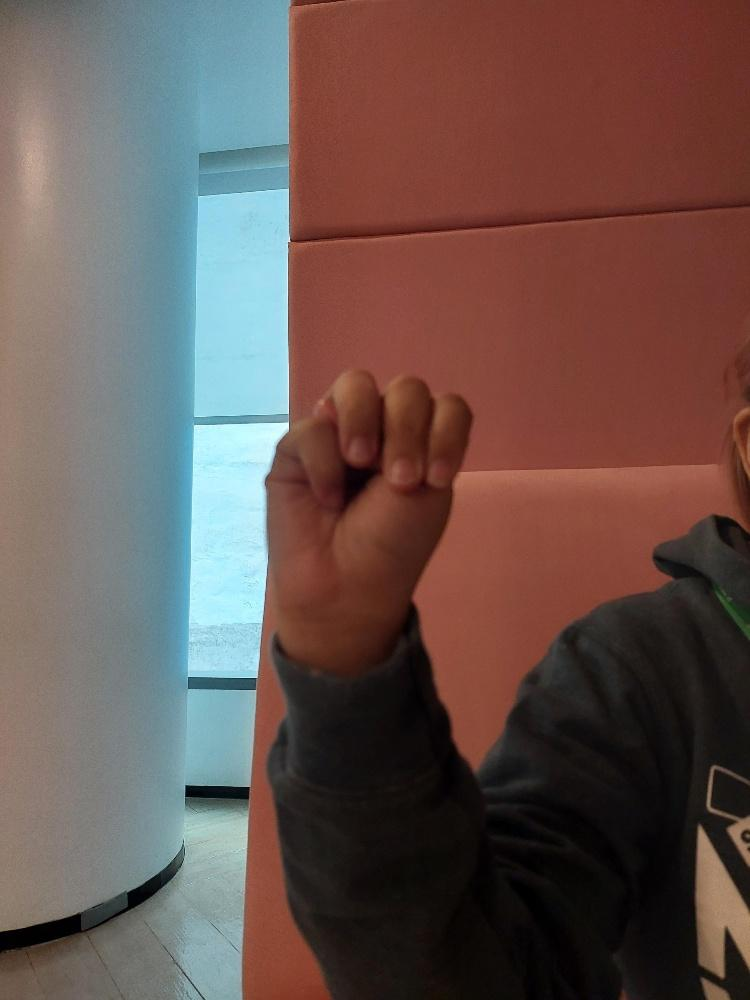m: (255, 360, 481, 640)
